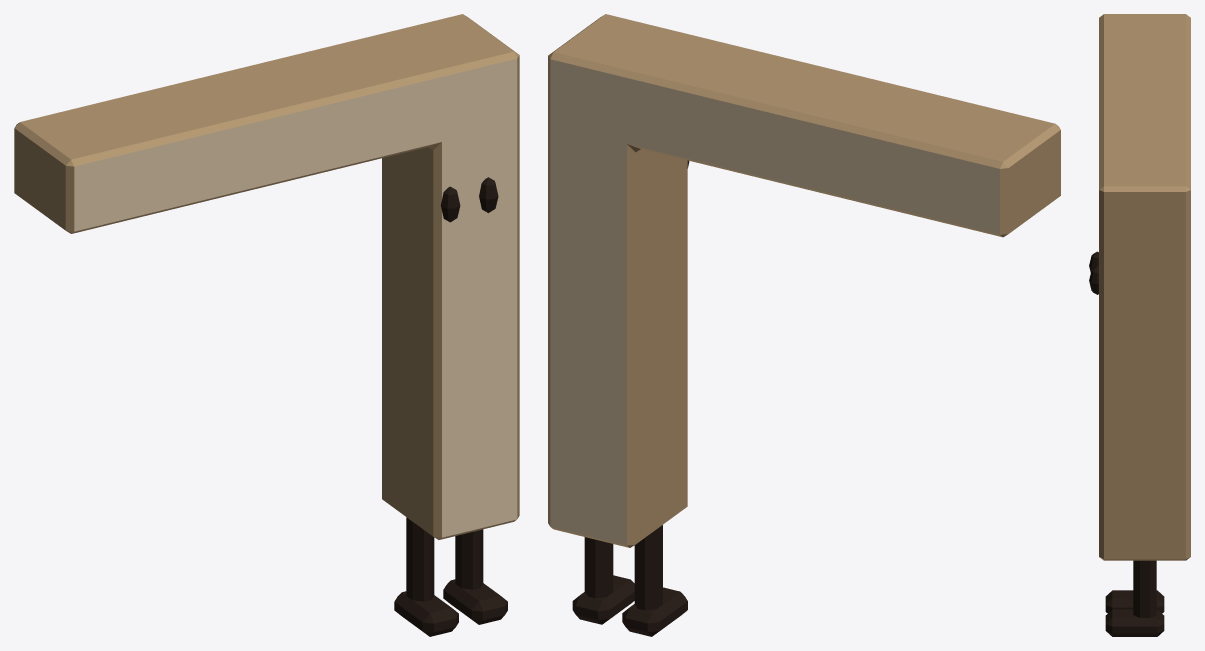
The model's file is giyeok.glb.
3 renders of one model, left to right at view 1: azimuth 30°, elevation 25°; view 2: azimuth 150°, elevation 25°; view 3: azimuth 270°, elevation 25°, orthographic. The views are drawn at different scales.
Visible parts, largest first — view 1: Glyph, Leg_L, Leg_R; view 2: Glyph, Leg_L, Leg_R; view 3: Glyph, Leg_R, Leg_L, Eye_R.
Part boxes in pixels (<box>): Glyph: <box>14,14,519,539</box>; Leg_L: <box>394,517,458,636</box>; Leg_R: <box>443,529,507,624</box>; Glyph: <box>548,14,1060,547</box>; Leg_L: <box>622,525,687,636</box>; Leg_R: <box>572,537,634,624</box>; Glyph: <box>1099,14,1190,560</box>; Leg_R: <box>1105,560,1164,636</box>; Leg_L: <box>1105,590,1164,613</box>; Eye_R: <box>1089,266,1098,294</box>.
Bounding box in the file's own units: 0.5 × 0.6 × 0.122.
